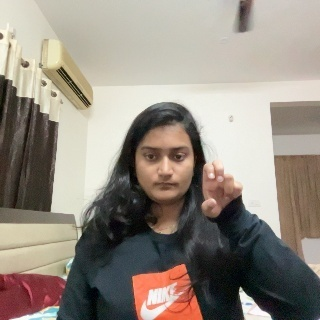Face: (131, 118, 196, 210)
No: (201, 161, 249, 239)
